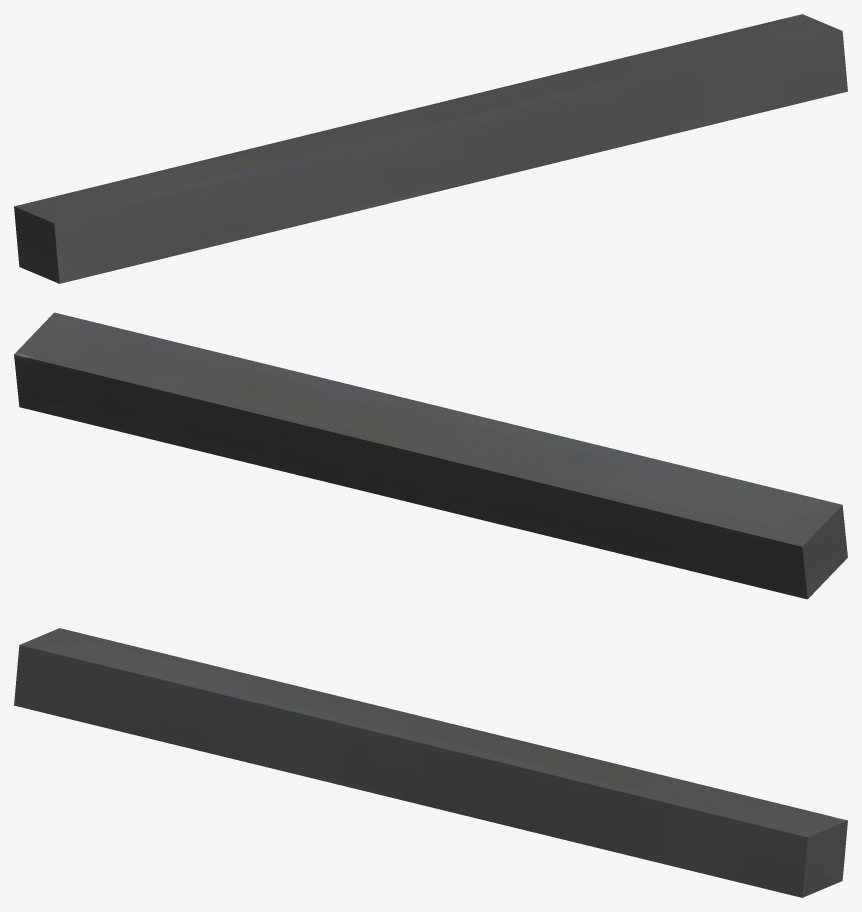
The model's file is cabinet__monitor_top_bezel.glb.
3 renders of one model, top to bottom at view 1: azimuth 30°, elevation 25°; view 2: azimuth 150°, elevation 25°; view 3: azimuth 330°, elevation 25°, orthographic.
Visible parts, largest first — view 1: geometry_0; view 2: geometry_0; view 3: geometry_0.
Part boxes in pixels (x1,y1,x2,y2): geometry_0: (14, 14, 847, 283); geometry_0: (14, 312, 847, 599); geometry_0: (14, 628, 847, 897).
Size of the model in its own units: 0.646 by 0.0542 by 0.0648.
Materials: 1 (1 with a texture image).
